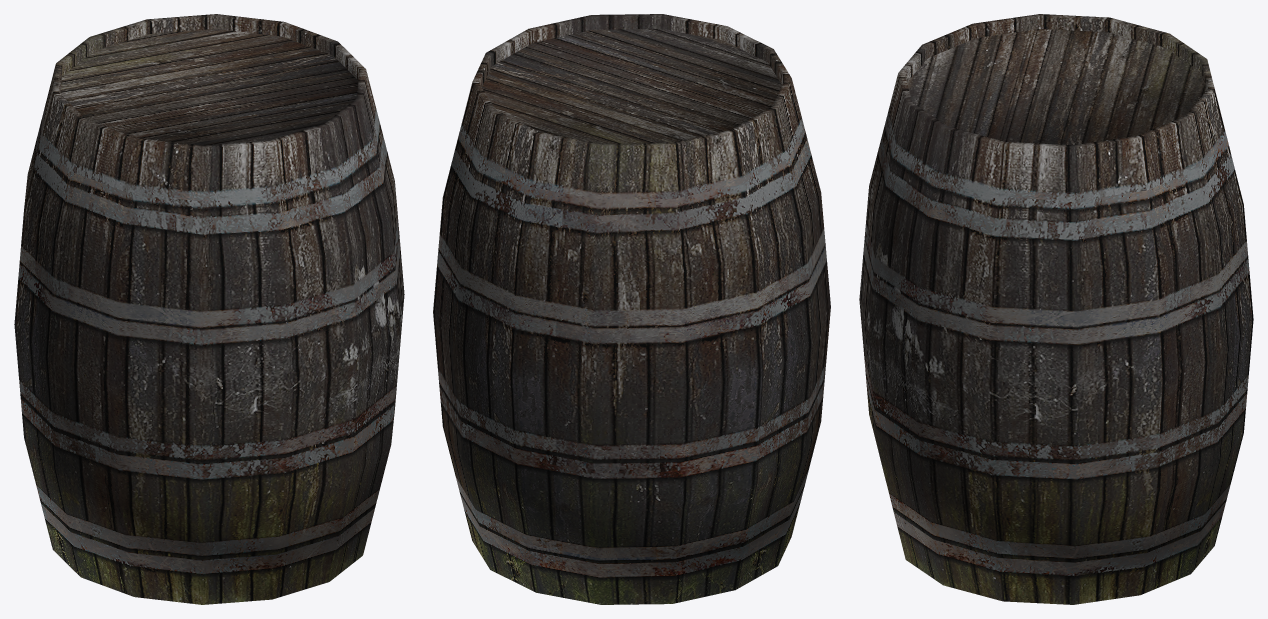
Rendered from big_wood_barrel.obj.
The picture shows the model from 3 angles, left to right: view 1: azimuth 30°, elevation 25°; view 2: azimuth 150°, elevation 25°; view 3: azimuth 270°, elevation 25°; orthographic projection.
Visible parts, largest first — view 1: wood_barrel_big Mesh; view 2: wood_barrel_big Mesh; view 3: wood_barrel_big Mesh.
Part boxes in pixels (left/top/right/bottom): wood_barrel_big Mesh: left=14, top=14, right=404, bottom=604; wood_barrel_big Mesh: left=433, top=14, right=830, bottom=604; wood_barrel_big Mesh: left=859, top=14, right=1253, bottom=604.
Bounding box in the file's own units: 124 × 158 × 124.
